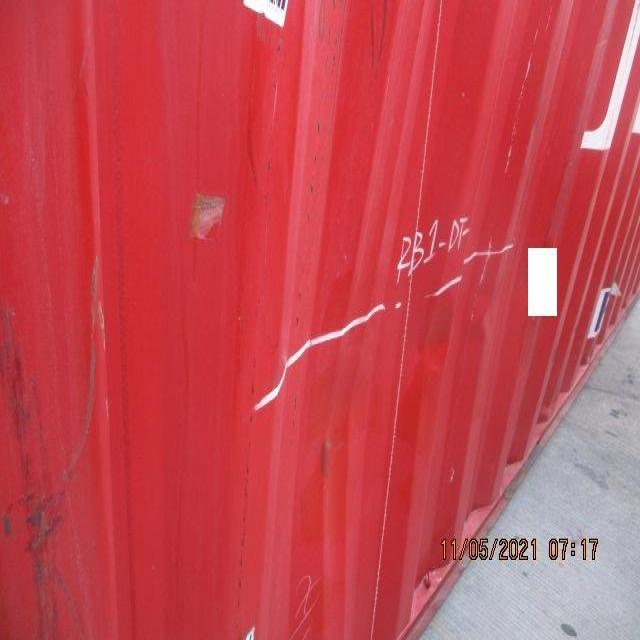Dent: (258, 243, 514, 555)
